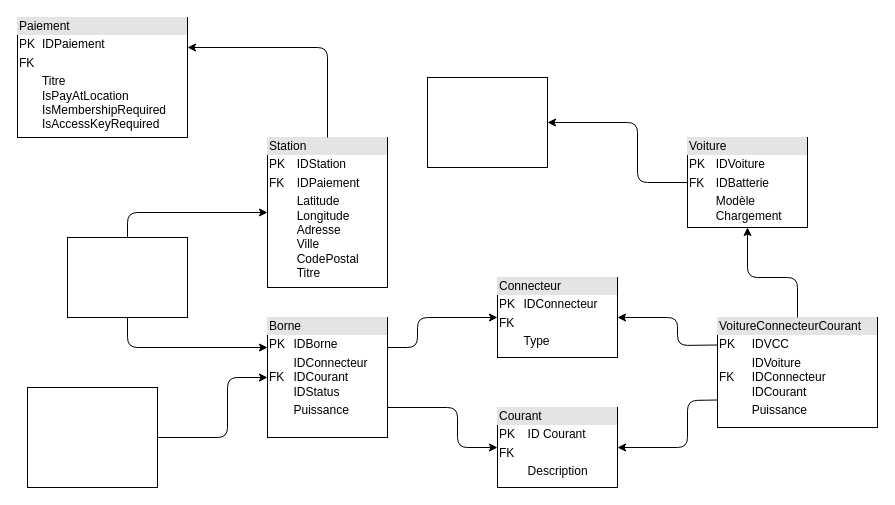
This 895x505 diagram has some shape labels left out. The box of each missing label's shape, as (x1, y1, x2, y2) in pixels:
Batterie PK IDBatterie FK Capacité Autonomie: (426, 76, 548, 168)
StationBorne PK IDSB FK IDStation IDBorne: (66, 236, 188, 318)
Status PK IDStatus FK Titre IsOperational IsUserSelectable: (26, 386, 158, 488)
